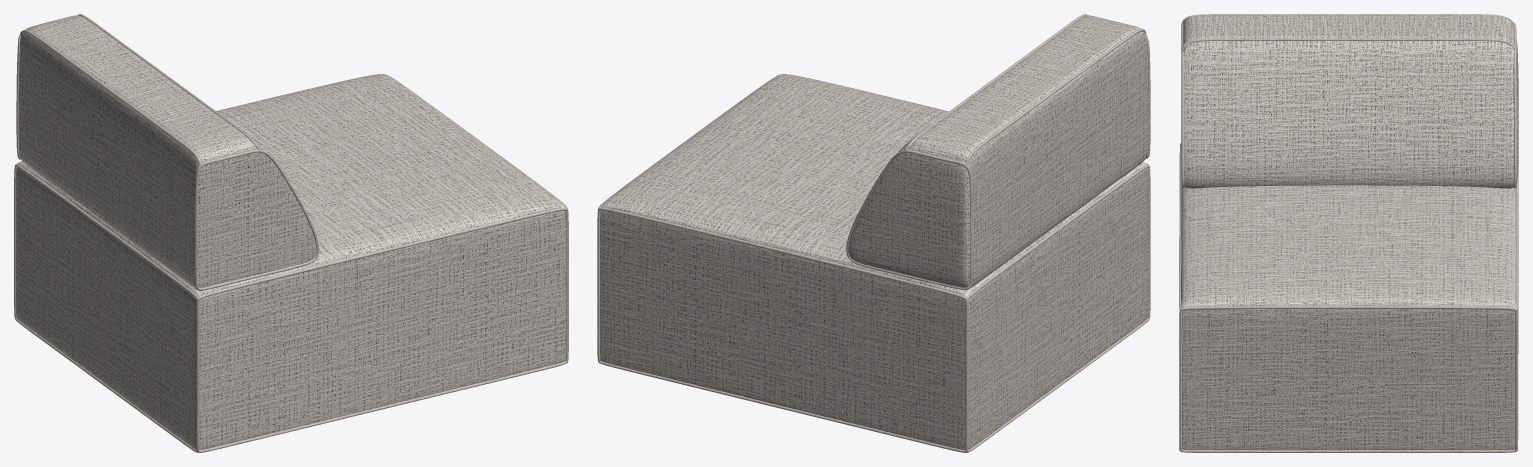
The model's file is armless_1_5_seater_91_alpine_gray.glb.
3 views of the same model, side by side, from view 1: azimuth 30°, elevation 25°; view 2: azimuth 150°, elevation 25°; view 3: azimuth 270°, elevation 25° (orthographic). The views are drawn at different scales.
Parts seen in each view (by area): view 1: Box093, Box097, Shape043, Shape039; view 2: Box093, Box097, Shape043, Shape039; view 3: Box093, Box097, Shape043, Shape039.
Part boxes in pixels (x1,y1,x2,y2): Box093: (16,74,566,449); Box097: (18,15,316,288); Shape043: (14,75,568,452); Shape039: (16,14,319,291); Box093: (600,74,1148,449); Box097: (848,15,1148,287); Shape043: (597,74,1150,452); Shape039: (846,14,1150,289); Box093: (1181,185,1517,450); Box097: (1183,15,1518,188); Shape043: (1179,143,1518,452); Shape039: (1181,14,1516,188).
Size of the model in its own units: 1.07 by 0.8369 by 0.9145.
2 materials, 2 textured.
